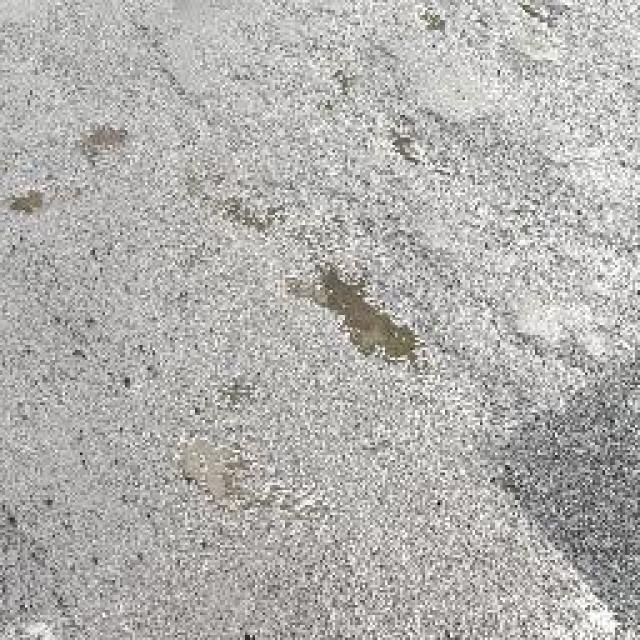waterlogging: (308, 258, 415, 364)
